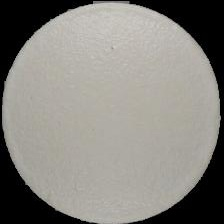0781-1972: (0, 0, 224, 224)
